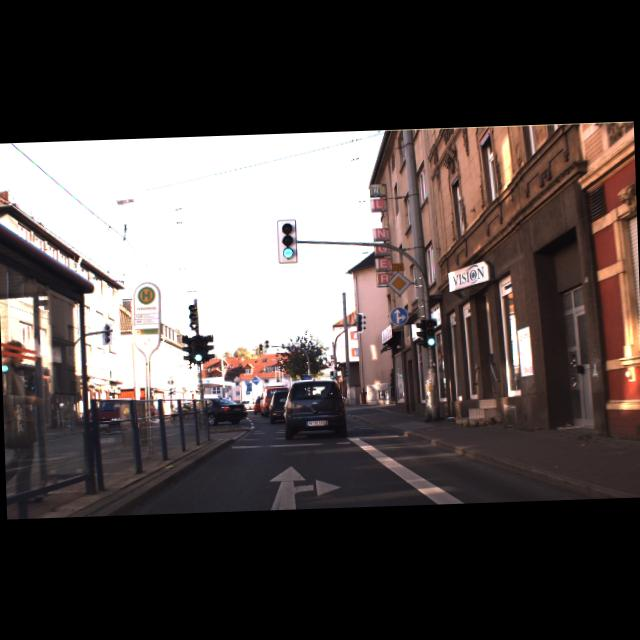mandatory: (388, 306, 408, 325)
other: (386, 270, 412, 296)
